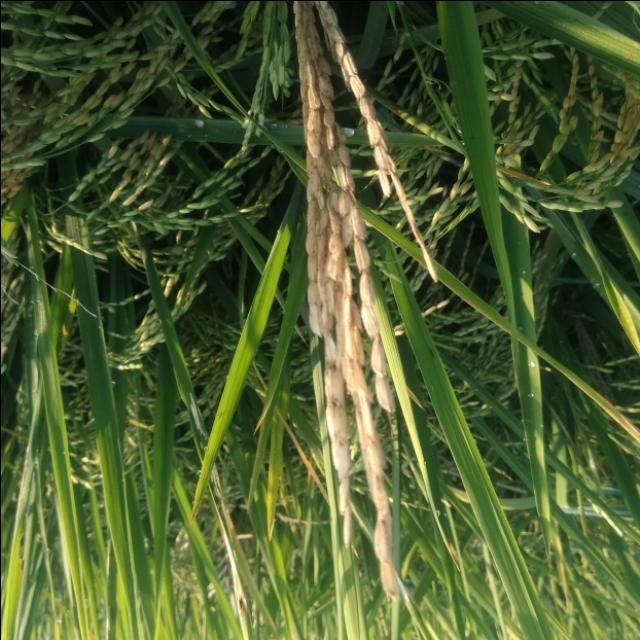Brown spot: (182, 500, 202, 541)
brown plant hopper: (550, 177, 624, 300)
